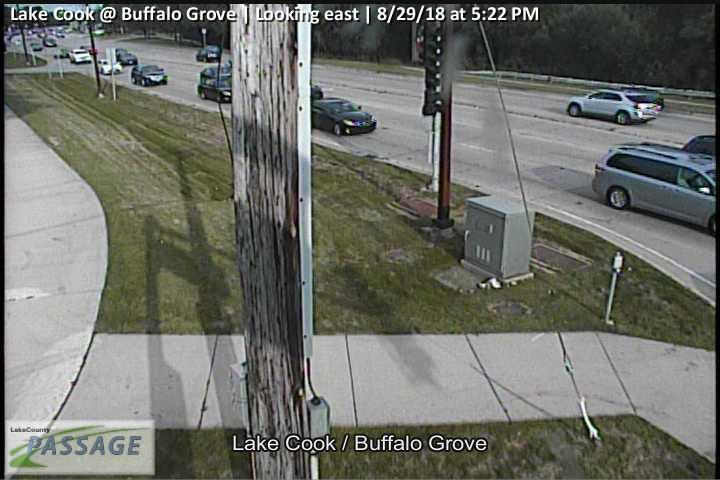SUV: (592, 143, 720, 234), (566, 88, 656, 126), (198, 69, 231, 103), (132, 64, 167, 86), (114, 48, 137, 65), (196, 46, 221, 61)
Sedan: (309, 97, 376, 136), (69, 48, 91, 64), (97, 60, 121, 74)
